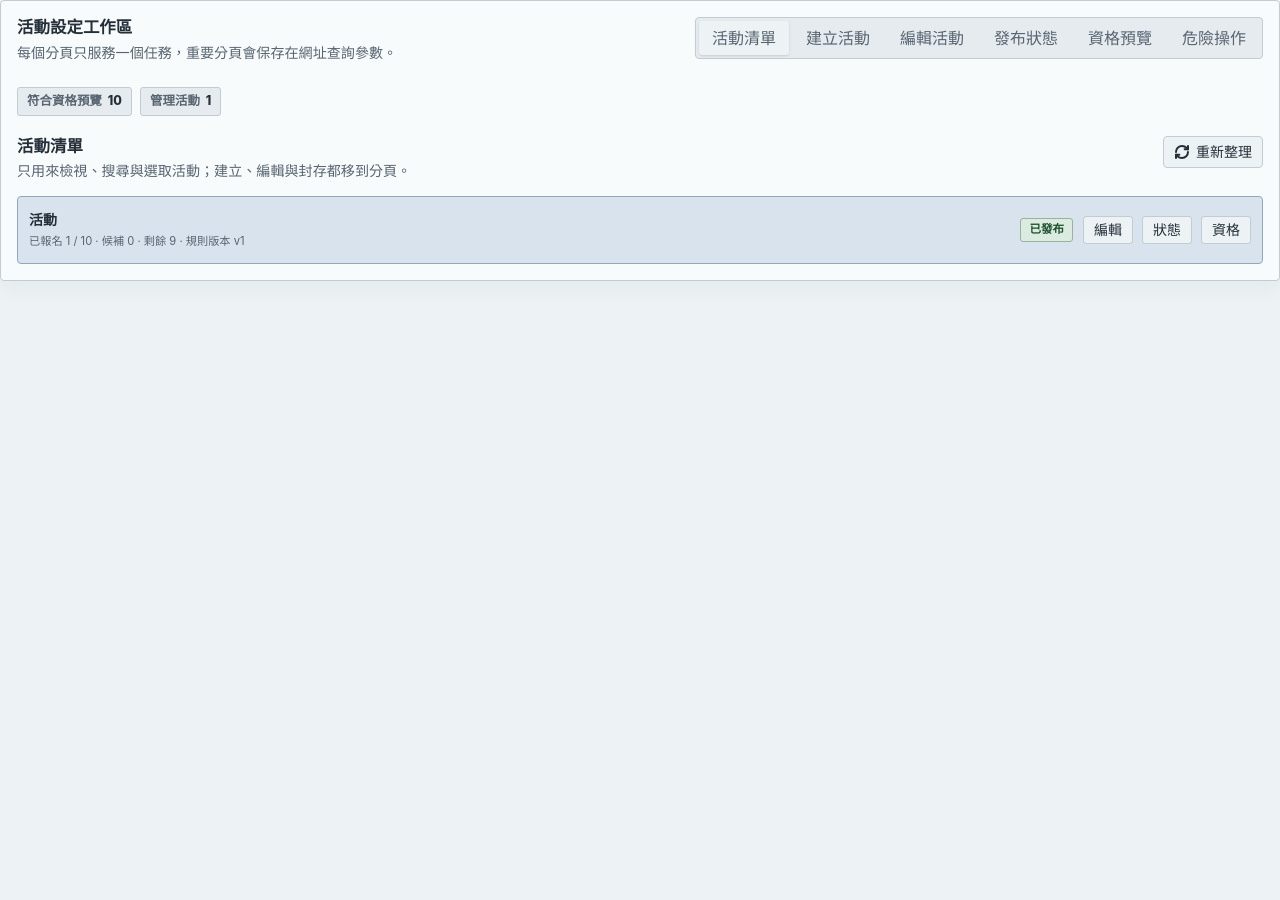
Scenario: AdminEventsPage CRUD tabs › updates the quick-setup schedule dropdown label after selection
The width and height of the screenshot is (1280, 900).
Click the tab "建立活動" at point(838, 38), box left=793, top=21, right=883, bottom=55
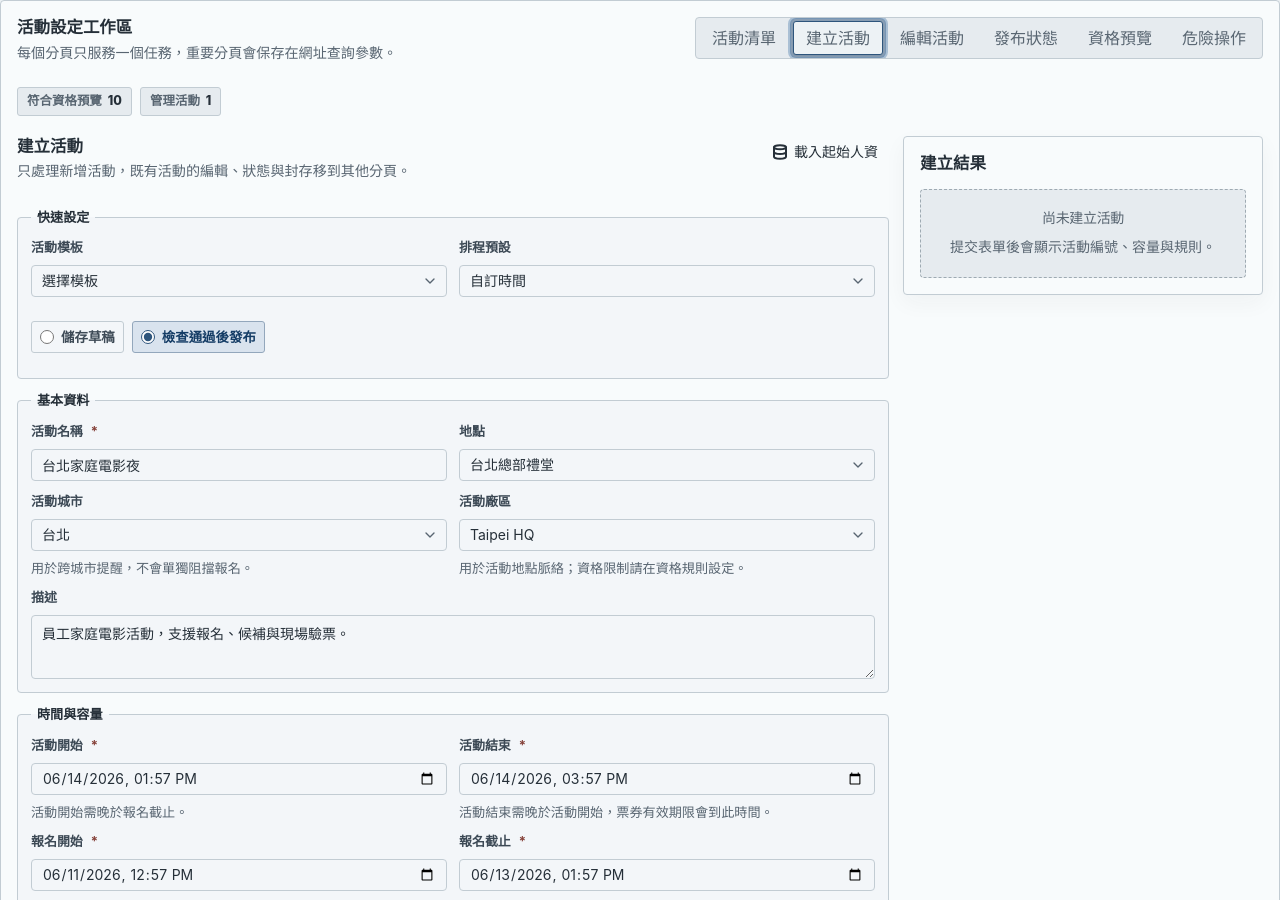
Now the dropdown named "排程預設" reads "自訂時間"
Click the dropdown named "排程預設" at point(498, 281), box left=459, top=265, right=875, bottom=297
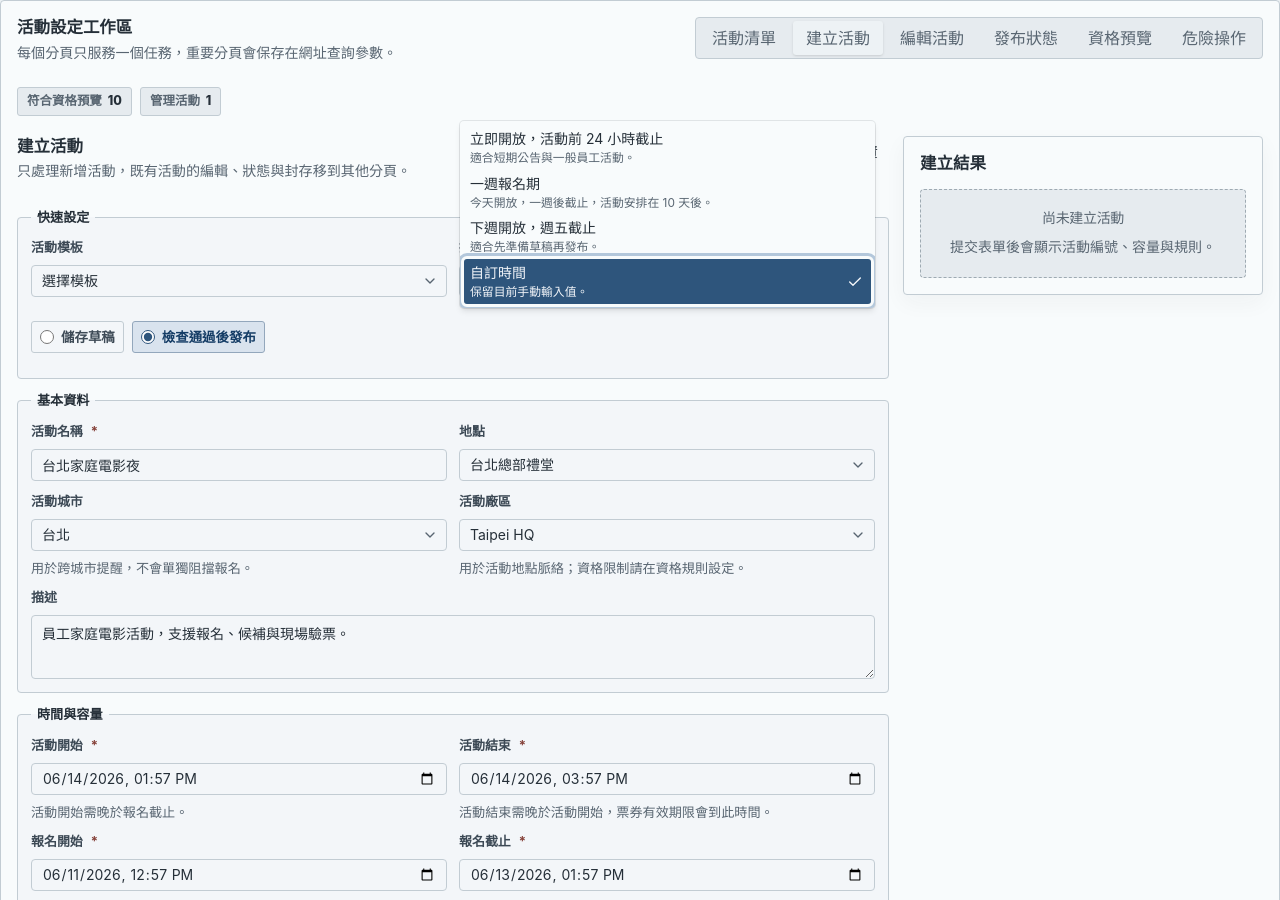
Click the option "立即開放，活動前 24 小時截止 適合短期公告與一般員工活動。" at point(567, 147), box left=470, top=130, right=663, bottom=165
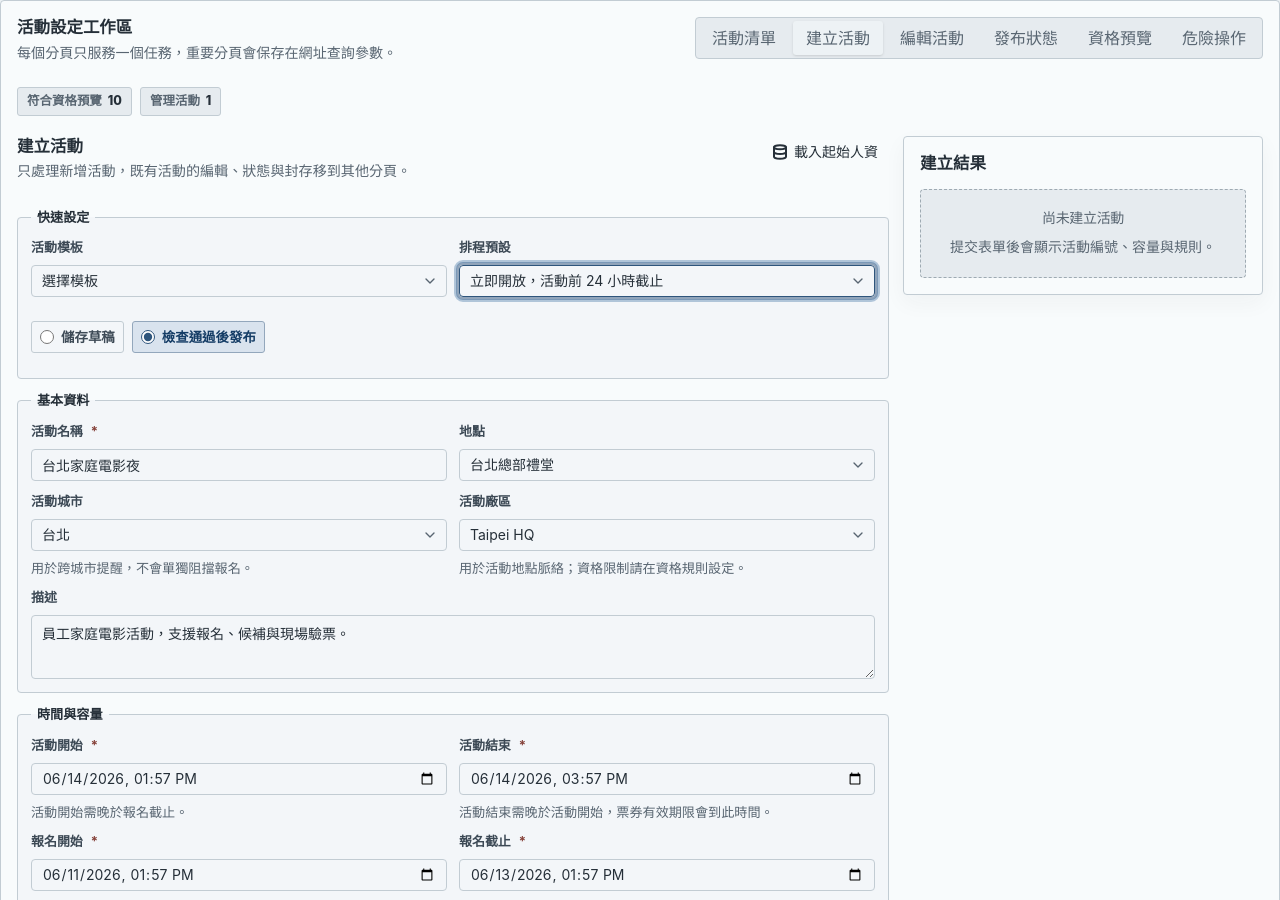
Now the dropdown named "排程預設" reads "立即開放，活動前 24 小時截止", box left=459, top=265, right=875, bottom=297
